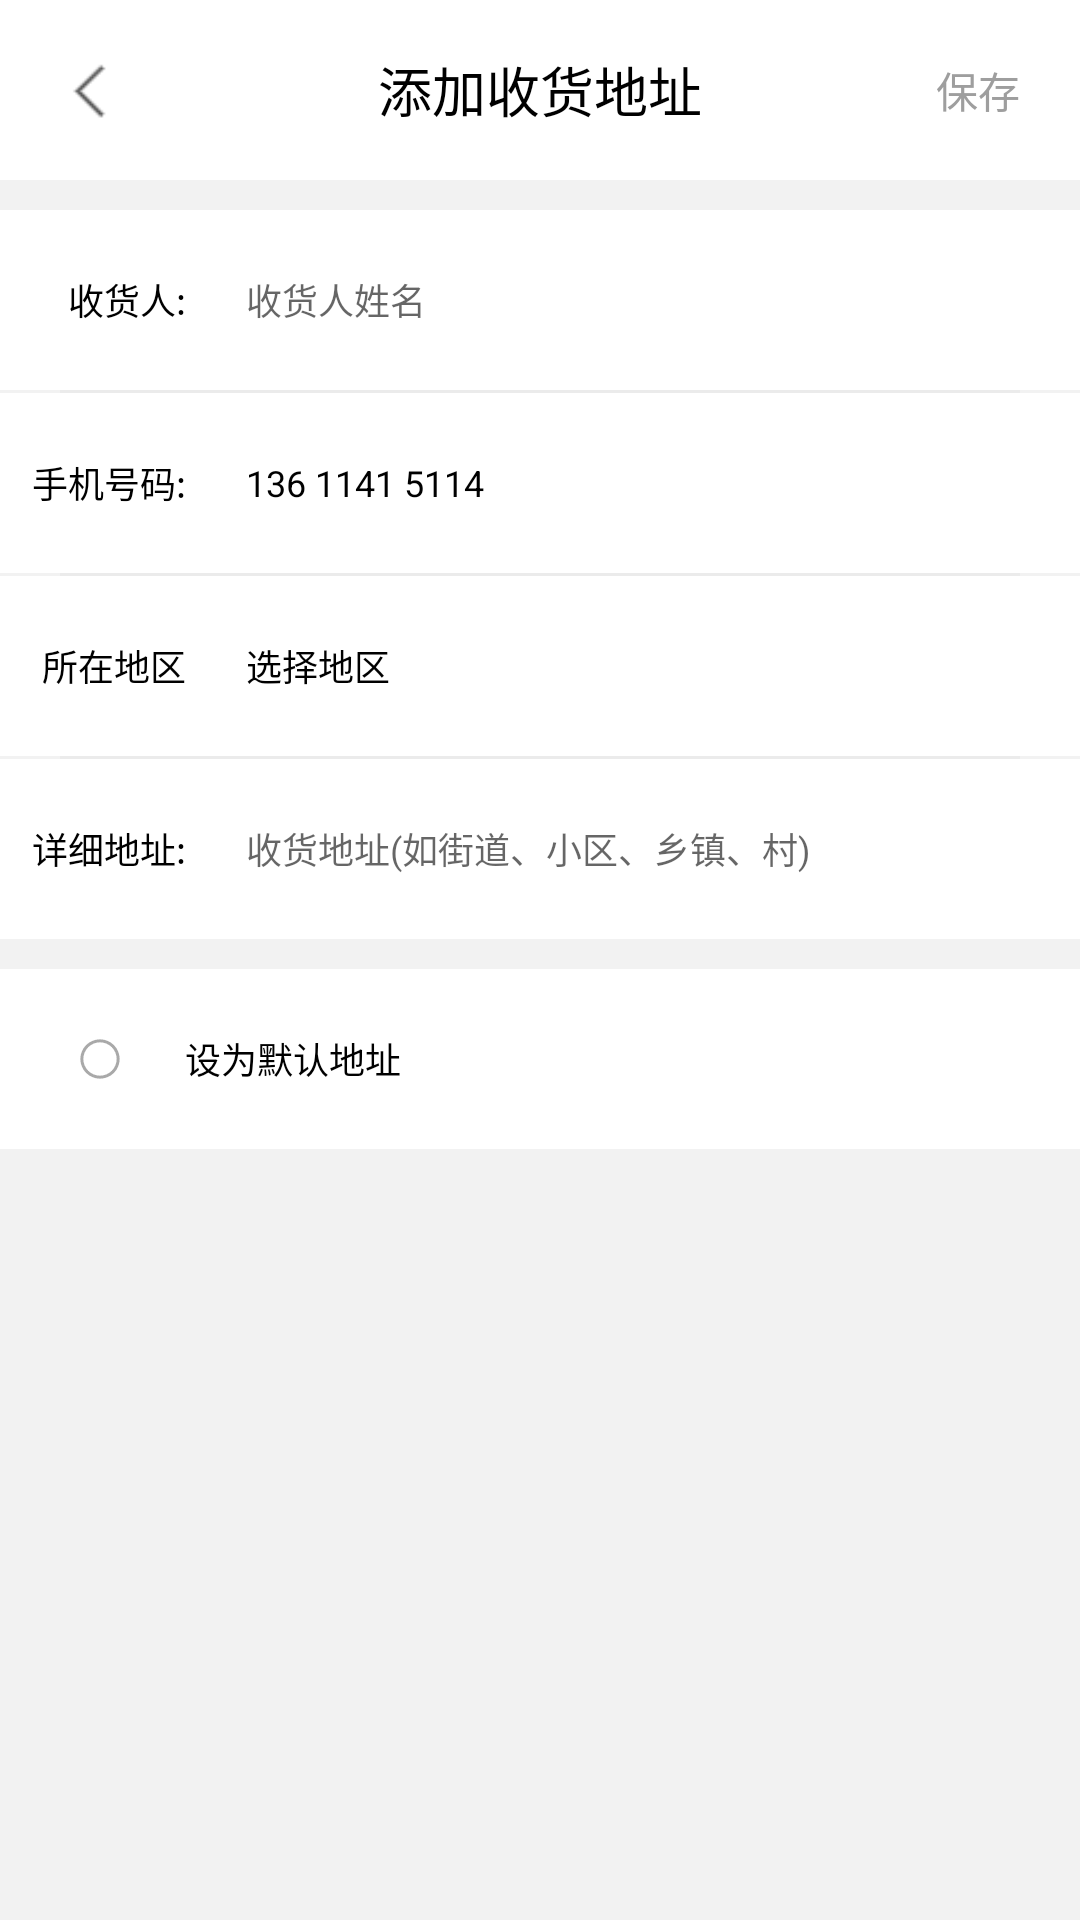

Named icons in this screenshot (1080 x 1920) and their bounding boxes, {"x1": x1, "y1": y1, "x2": x2, "y2": y2}:
back: {"x1": 74, "y1": 65, "x2": 105, "y2": 118}
